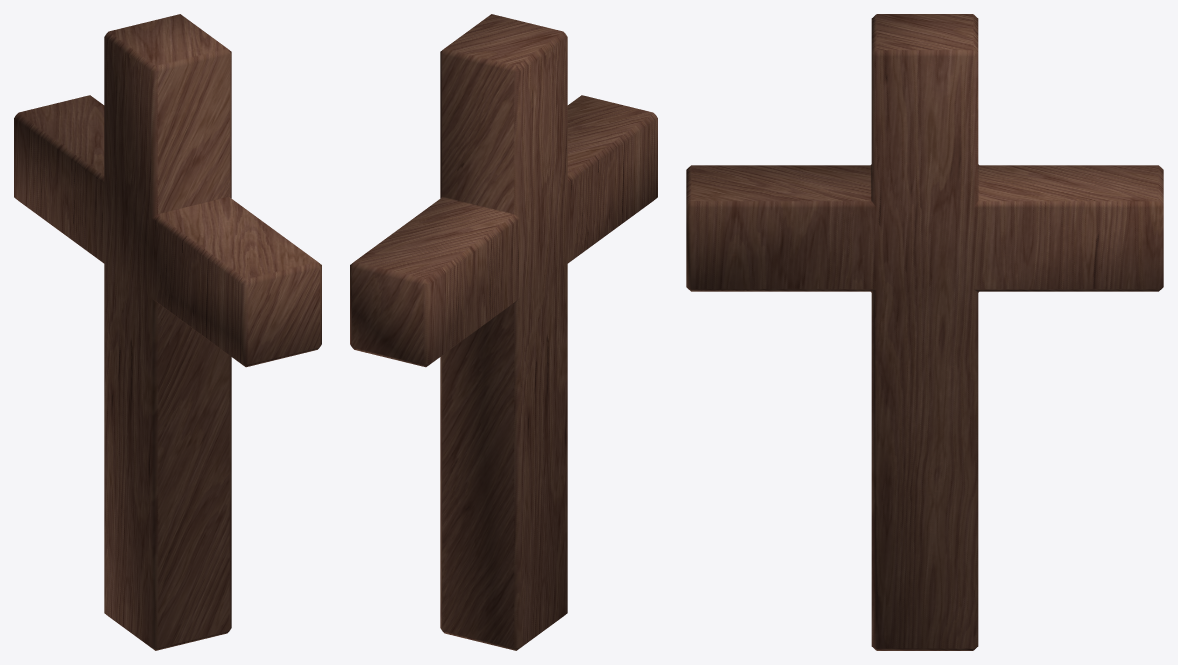
The model's file is Kruzifix.fbx.
The picture shows the model from 3 angles, left to right: view 1: azimuth 30°, elevation 25°; view 2: azimuth 150°, elevation 25°; view 3: azimuth 270°, elevation 25°; orthographic projection. The views are drawn at different scales.
Parts seen in each view (by area): view 1: Kruzifix; view 2: Kruzifix; view 3: Kruzifix.
Part boxes in pixels (x1,y1,x2,y2): Kruzifix: [14, 14, 321, 650]; Kruzifix: [350, 14, 657, 650]; Kruzifix: [686, 14, 1163, 650].
Size of the model in its own units: 2.07 by 14.41 by 10.38.
